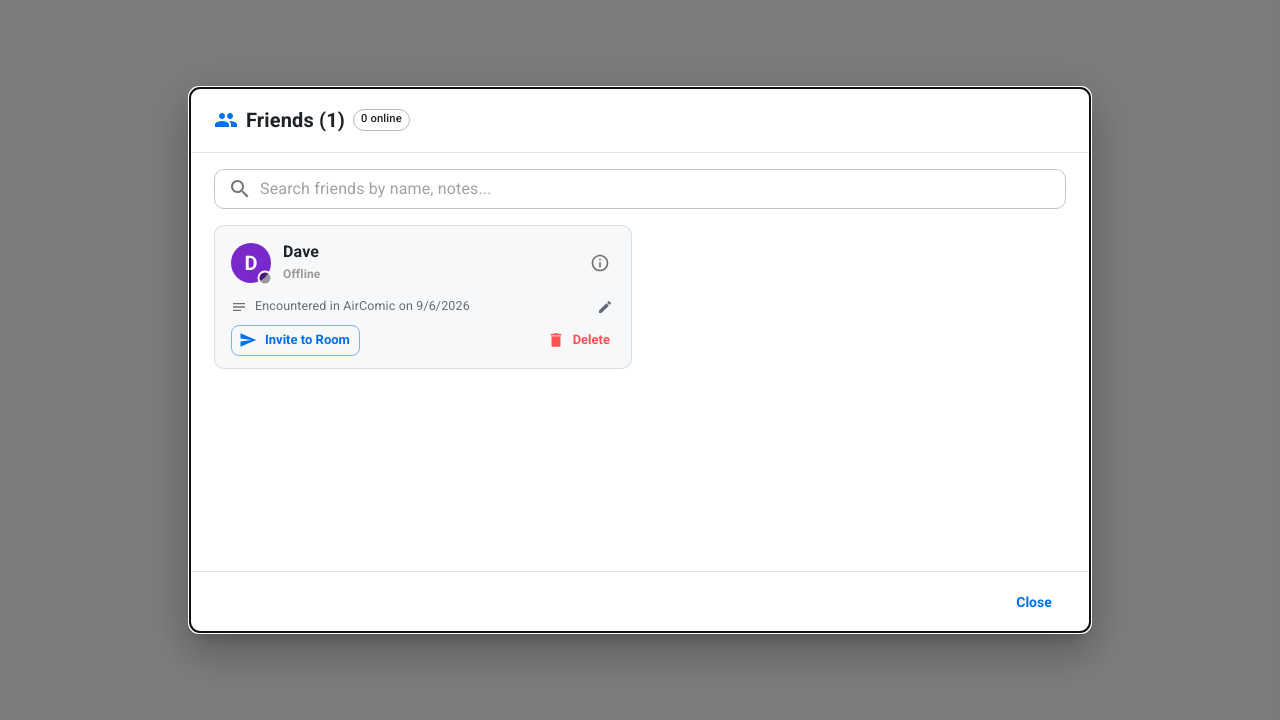
Test case: FriendsDialog › displays the info icon on the friend card and opens the details popup window when clicked
The image size is (1280, 720).
Expected: the text "INFORMATION / BIOGRAPHY" is not shown
Click info icon
Click the button named "View details for Dave": (600, 263) x1=585 y1=248 x2=615 y2=278
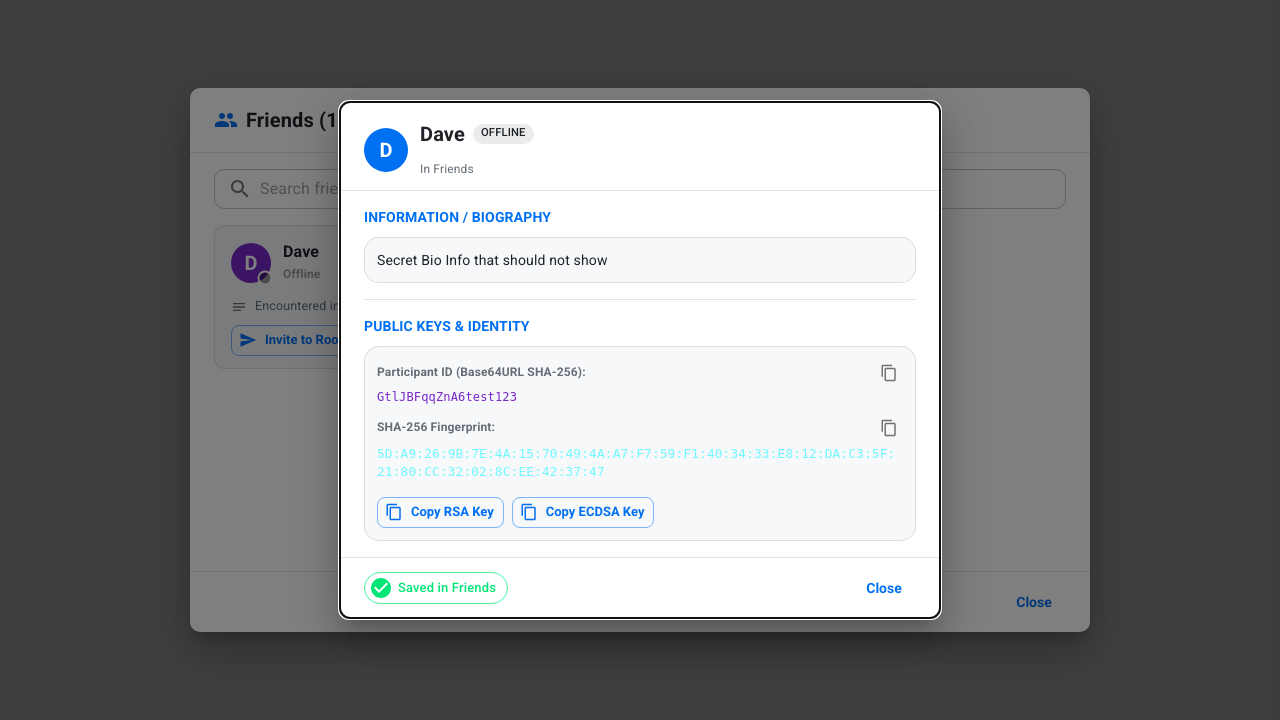
Expected: the heading "INFORMATION / BIOGRAPHY" is shown, x1=364 y1=209 x2=551 y2=225
Expected: the heading "PUBLIC KEYS & IDENTITY" is shown, x1=364 y1=318 x2=530 y2=334
Expected: the text "Secret Bio Info that should not show" is shown, x1=377 y1=252 x2=608 y2=268
The details dialog has its own Close button
Click the button "Close": (884, 588) x1=852 y1=570 x2=916 y2=606
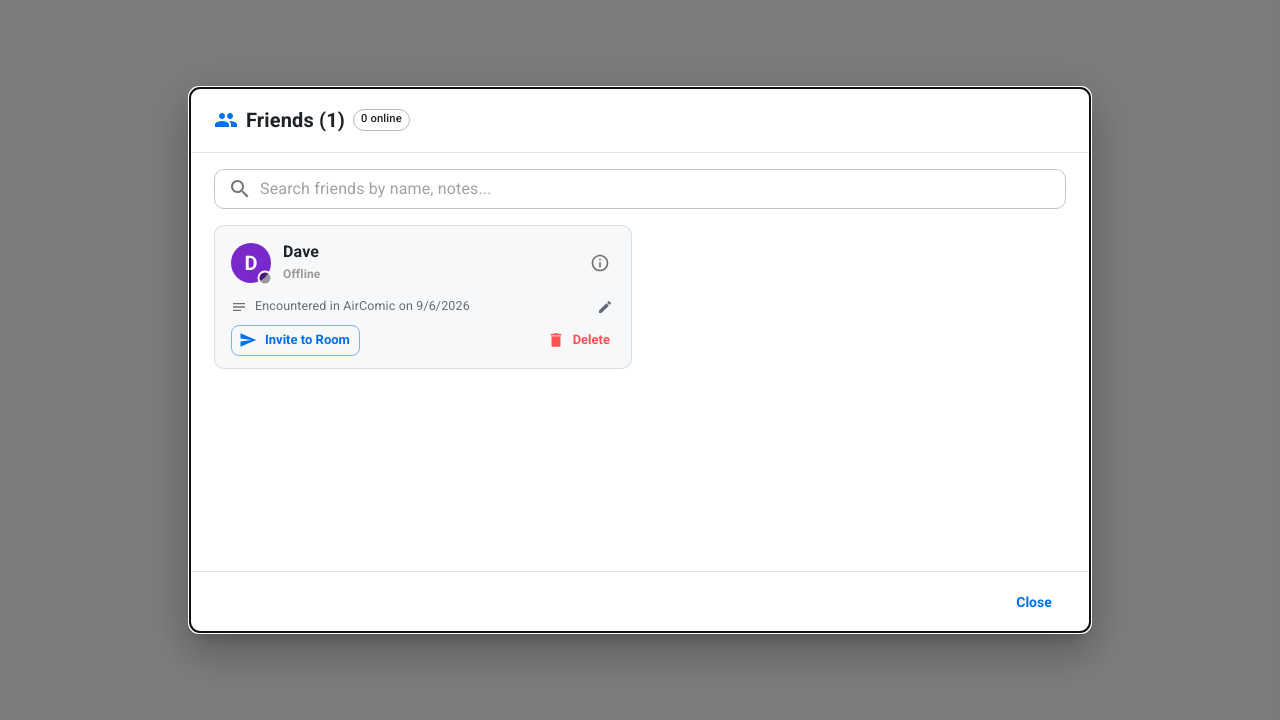
Expected: the heading "INFORMATION / BIOGRAPHY" is gone
